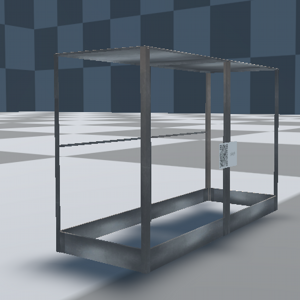Rack: (52, 43, 281, 276)
